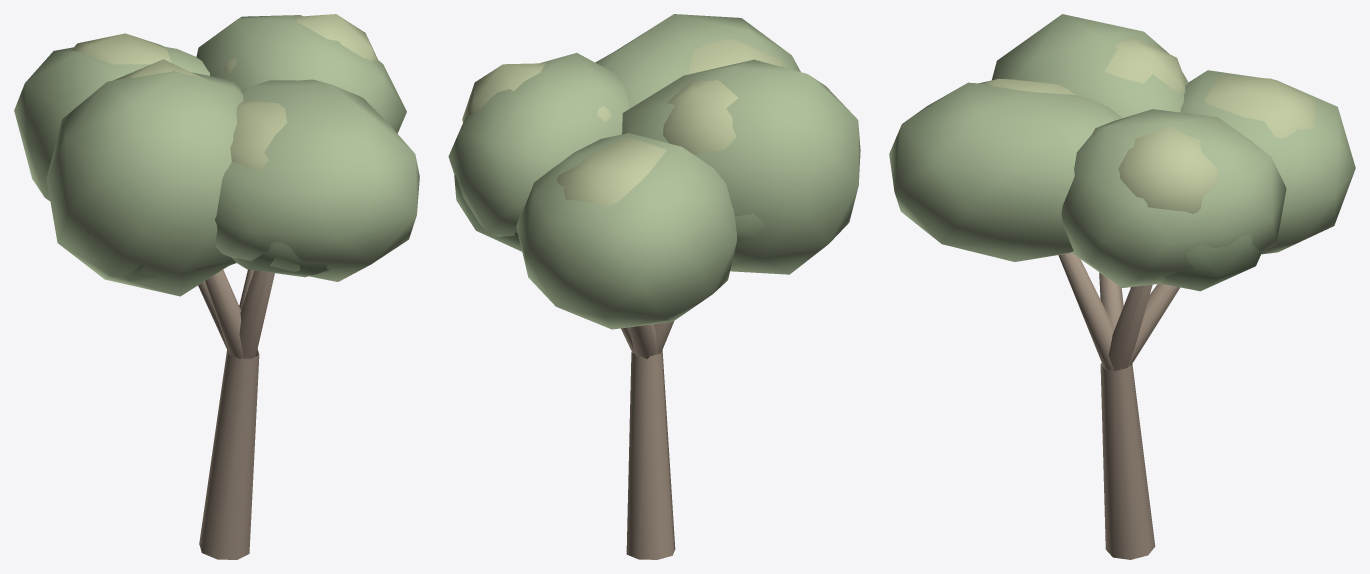
File: tree_ceibo_9.glb
3 views of the same model, side by side, from view 1: azimuth 30°, elevation 25°; view 2: azimuth 150°, elevation 25°; view 3: azimuth 270°, elevation 25° (orthographic). The views are drawn at different scales.
Parts seen in each view (by area): view 1: tree_ceibo_9.glb; view 2: tree_ceibo_9.glb; view 3: tree_ceibo_9.glb.
Part boxes in pixels (x1,y1,x2,y2): tree_ceibo_9.glb: (14,14,419,559); tree_ceibo_9.glb: (448,14,860,559); tree_ceibo_9.glb: (889,14,1355,559).
Bounding box in the file's own units: 4.01 × 5.36 × 4.69.
